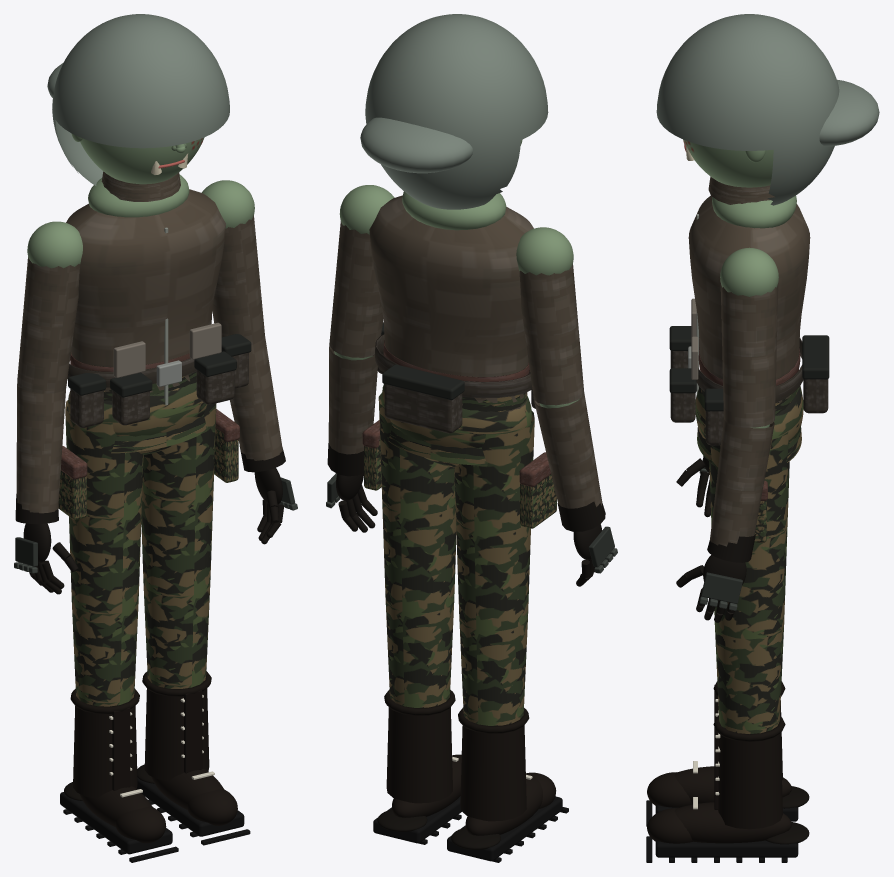
Rendered from 10-mutant-massif.glb.
3 views of the same model, side by side, from view 1: azimuth 30°, elevation 25°; view 2: azimuth 150°, elevation 25°; view 3: azimuth 270°, elevation 25° (orthographic). The views are drawn at different scales.
Bounding box in the file's own units: 0.7486 × 2.11 × 0.5499.
Materials: 31 (6 with a texture image).
